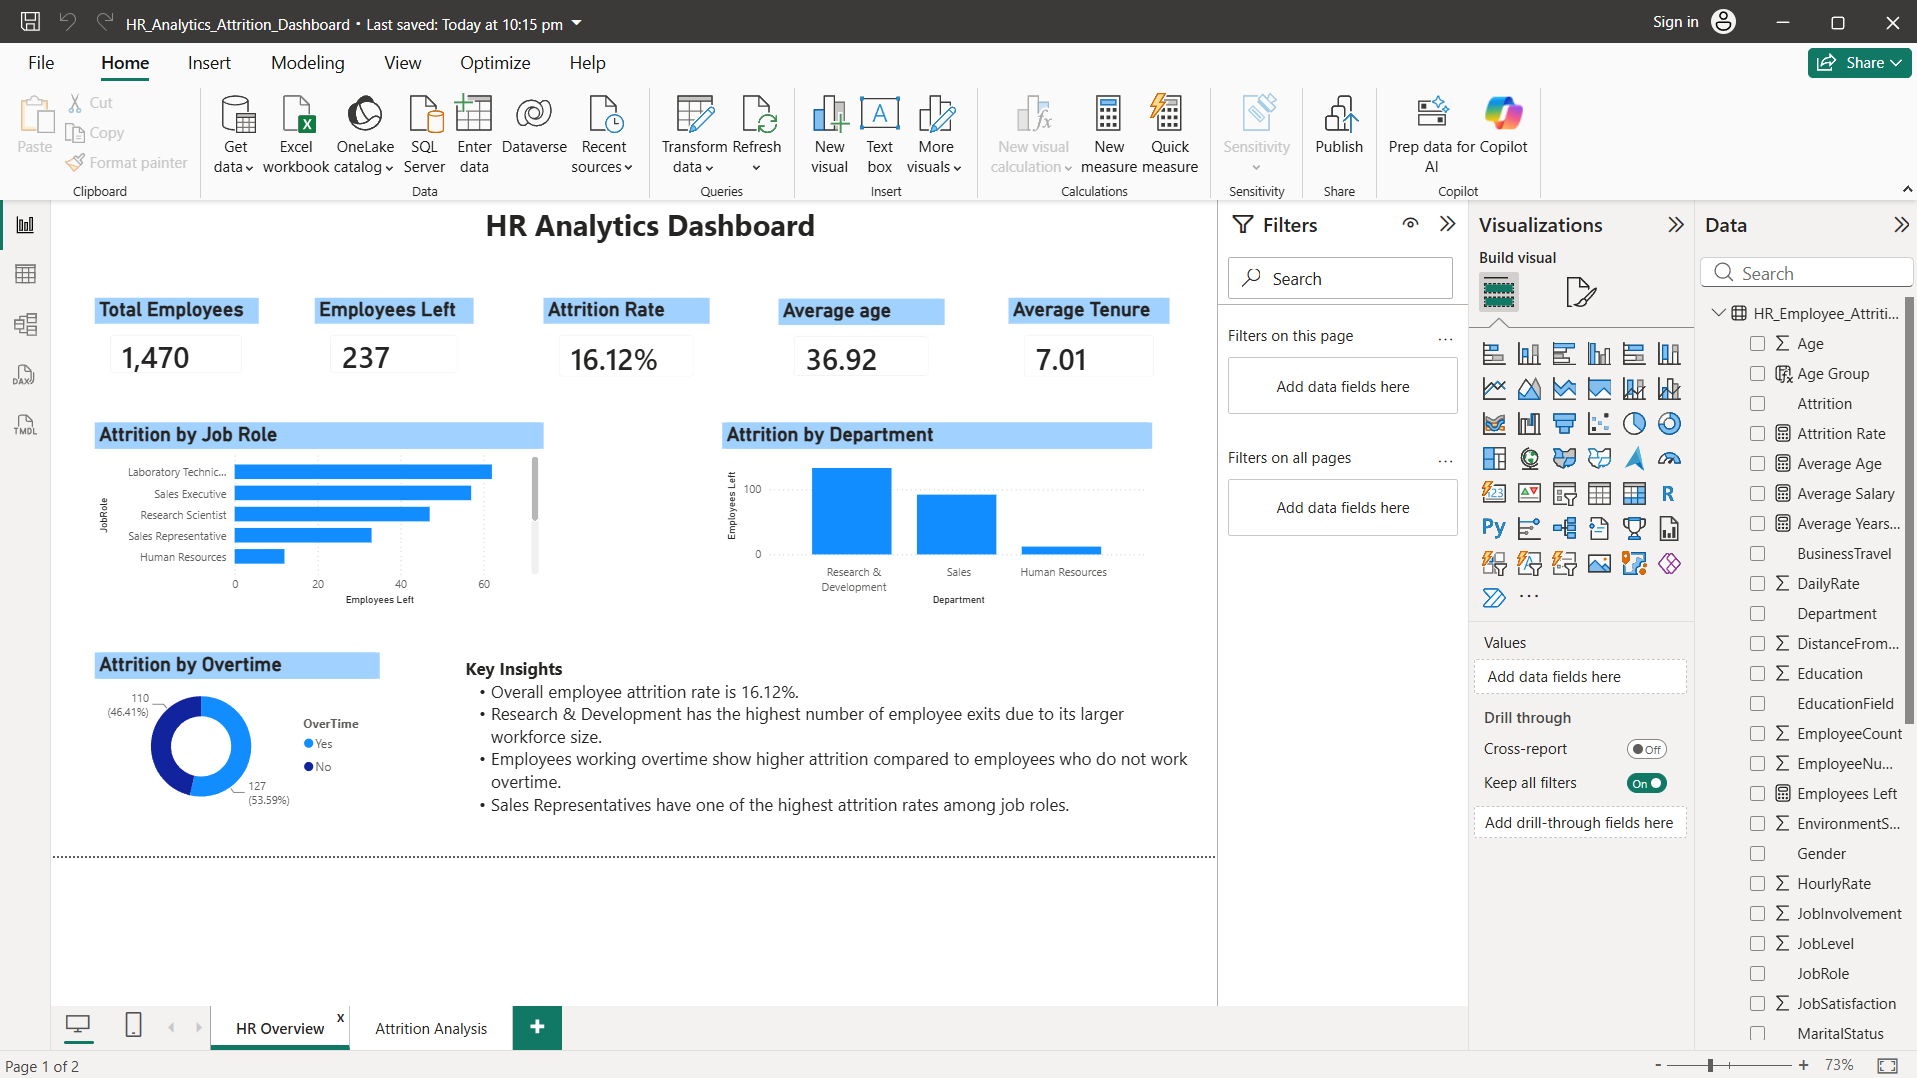

The dashboard page shown, as its layout file describes it:
{"tool":"powerbi","page":{"name":"HR Overview","canvas":[1280,720],"ordinal":0},"visuals":[{"type":"cardVisual","title":"Total Employees","fields":{"Data":["CountNonNull(HR_Employee_Attrition.EmployeeNumber)"]},"box":[48,107,179.8,100.2],"z":0},{"type":"cardVisual","title":"Employees Left","fields":{"Data":["HR_Employee_Attrition.Employees Left"]},"box":[289.5,107,174.3,100.2],"z":1000},{"type":"cardVisual","title":"Attrition Rate","fields":{"Data":["HR_Employee_Attrition.Attrition Rate"]},"box":[540.7,107,182.5,104.3],"z":2000},{"type":"cardVisual","title":"Average Age","fields":{"Data":["HR_Employee_Attrition.Average Age"]},"box":[890.6,617.5,179.8,102.9],"z":3000},{"type":"clusteredColumnChart","title":"Attrition by Department","fields":{"Category":["HR_Employee_Attrition.Department"],"Y":["HR_Employee_Attrition.Employees Left"]},"box":[736.9,244.3,472,205.8],"z":4000},{"type":"clusteredBarChart","title":"Attrition by Job Role","fields":{"Category":["HR_Employee_Attrition.JobRole"],"Y":["HR_Employee_Attrition.Employees Left"]},"box":[48,244.3,492.6,205.8],"z":5000},{"type":"donutChart","title":"Attrition by Overtime","fields":{"Category":["HR_Employee_Attrition.OverTime"],"Y":["HR_Employee_Attrition.Employees Left"]},"box":[48,496.7,312.9,182.5],"z":6000},{"type":"cardVisual","title":"Average Tenure","fields":{"Data":["HR_Employee_Attrition.Average Years at Company"]},"box":[1051.1,107,177,104.3],"z":7000},{"type":"textbox","box":[48,0,1232.3,107],"z":8000},{"type":"textbox","box":[450.1,496.7,819.2,205.8],"z":9000},{"type":"cardVisual","title":"Average age","fields":{"Data":["HR_Employee_Attrition.Average Age"]},"box":[798.6,108.4,182.5,102.9],"z":9001}]}

Visuals, with their boxes on the page's 1280x720 design canvas (x1, y1, x2, y2). These are canvas units, not pixel positions in the 1917x1078 screenshot, which may show the page scaled, cropped or inside an application window:
"Total Employees" cardVisual: (x1=48, y1=107, x2=228, y2=207)
"Employees Left" cardVisual: (x1=290, y1=107, x2=464, y2=207)
"Attrition Rate" cardVisual: (x1=541, y1=107, x2=723, y2=211)
"Average Age" cardVisual: (x1=891, y1=618, x2=1070, y2=720)
"Attrition by Department" clusteredColumnChart: (x1=737, y1=244, x2=1209, y2=450)
"Attrition by Job Role" clusteredBarChart: (x1=48, y1=244, x2=541, y2=450)
"Attrition by Overtime" donutChart: (x1=48, y1=497, x2=361, y2=679)
"Average Tenure" cardVisual: (x1=1051, y1=107, x2=1228, y2=211)
textbox: (x1=48, y1=0, x2=1280, y2=107)
textbox: (x1=450, y1=497, x2=1269, y2=702)
"Average age" cardVisual: (x1=799, y1=108, x2=981, y2=211)
